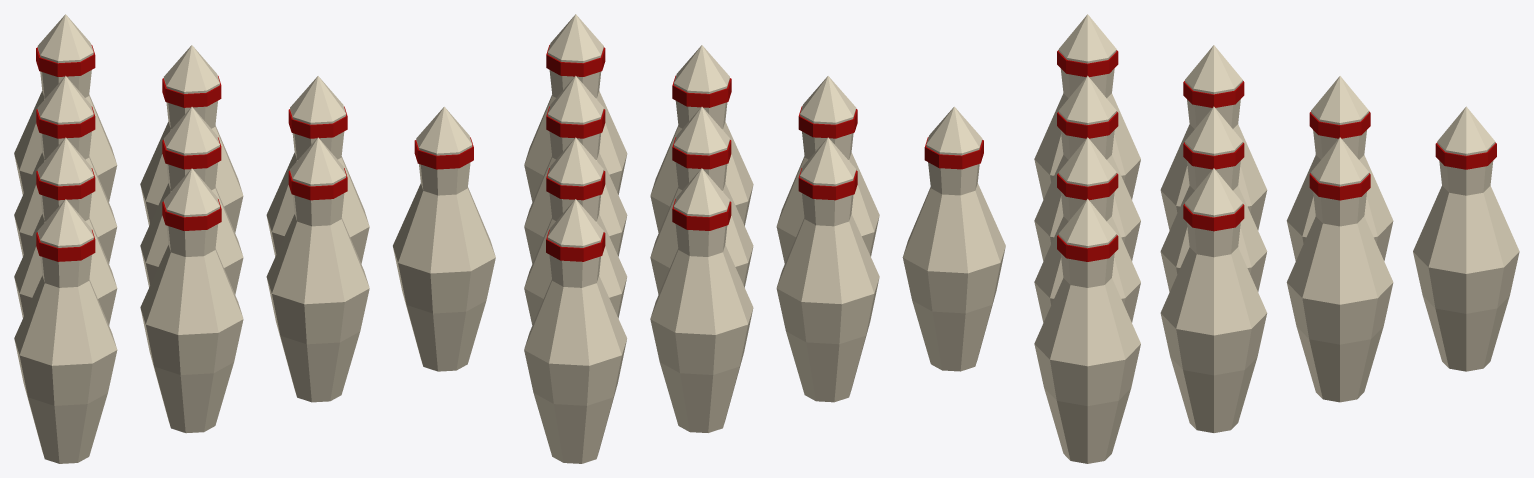
The model's file is pin_rack.obj.
3 renders of one model, left to right at view 1: azimuth 30°, elevation 25°; view 2: azimuth 150°, elevation 25°; view 3: azimuth 270°, elevation 25°, orthographic.
Parts seen in each view (by area): view 1: pin_rack; view 2: pin_rack; view 3: pin_rack.
Part boxes in pixels (box(x1,y1,x2,y2)): pin_rack: box(14, 14, 495, 463); pin_rack: box(524, 14, 1005, 463); pin_rack: box(1034, 14, 1519, 463).
Size of the model in its own units: 1.12 by 0.58 by 1.
